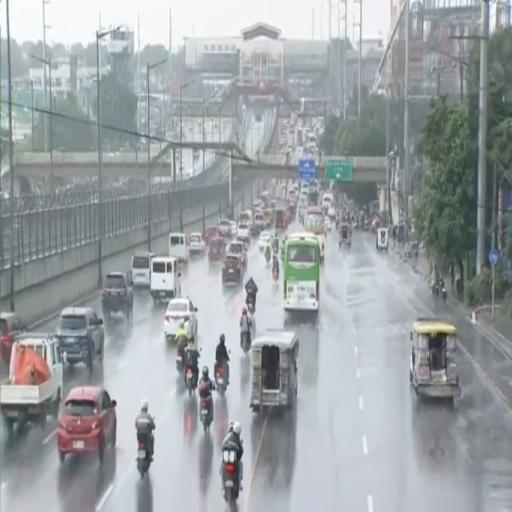bus: (284, 233, 320, 312), (304, 207, 325, 261), (304, 207, 324, 234)
car: (57, 387, 116, 462), (56, 308, 104, 365), (102, 272, 133, 322), (164, 297, 197, 342), (0, 312, 26, 364), (222, 254, 243, 283), (228, 240, 247, 268), (208, 237, 224, 262), (189, 233, 205, 254), (237, 223, 250, 241), (259, 231, 271, 250), (218, 219, 230, 236), (327, 206, 336, 219), (230, 221, 237, 236), (325, 216, 331, 231)
jeepney: (250, 329, 299, 412), (410, 318, 460, 398), (339, 223, 352, 248)
motorcycle: (221, 450, 239, 510), (137, 435, 151, 477), (185, 349, 197, 396), (200, 395, 212, 432), (185, 364, 197, 396), (215, 364, 227, 395), (176, 345, 184, 373), (241, 331, 250, 354), (246, 296, 255, 314), (272, 266, 280, 282), (432, 284, 439, 298), (441, 285, 446, 302), (265, 250, 270, 263)
truck: (0, 333, 64, 435)
